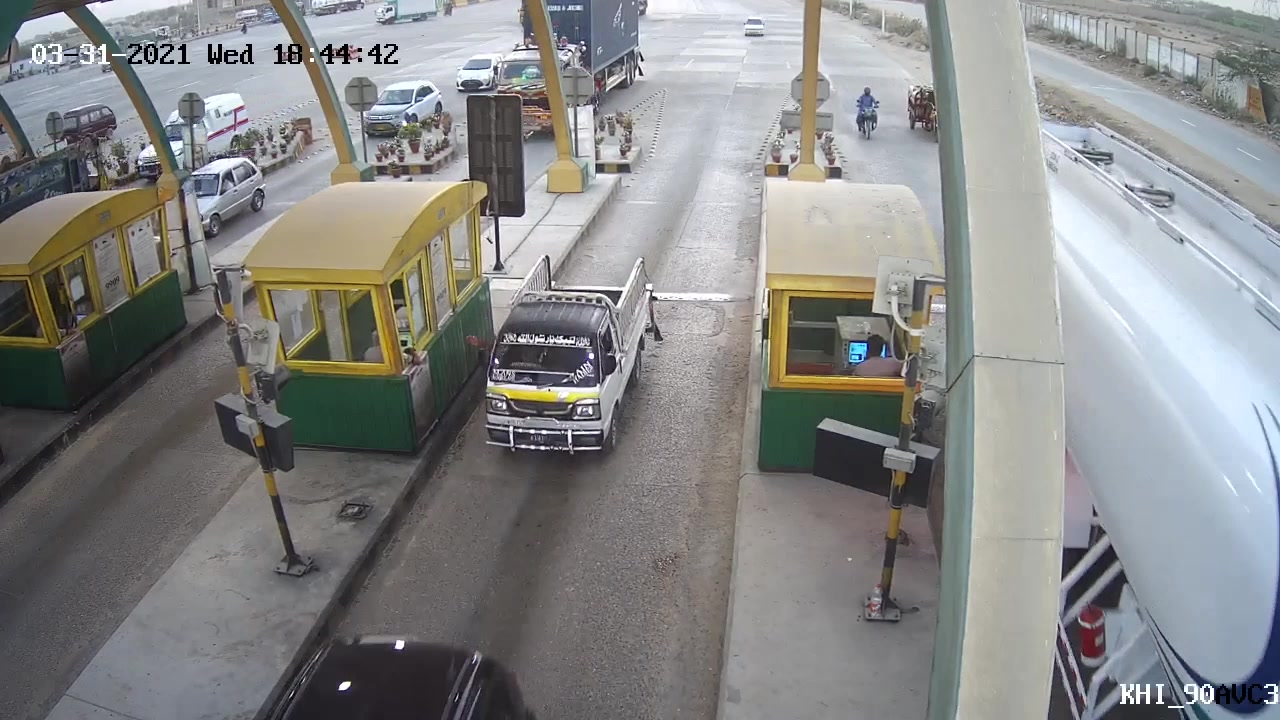F1: (463, 246, 668, 458)
